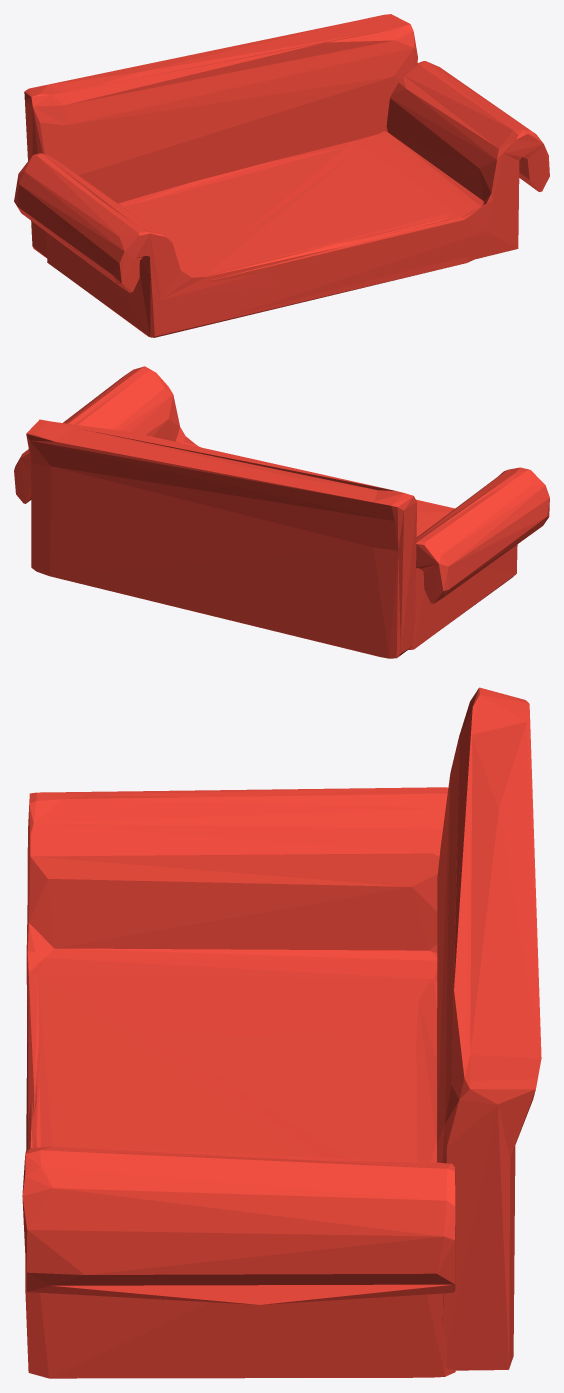
Rendered from simplecouch.fbx.
3 views of the same model, one above another, from view 1: azimuth 30°, elevation 25°; view 2: azimuth 150°, elevation 25°; view 3: azimuth 270°, elevation 25° (orthographic). The views are drawn at different scales.
Parts seen in each view (by area): view 1: Cube; view 2: Cube; view 3: Cube.
Boxes of the visible parts, <box> form: Cube: <box>14,14,549,337</box>; Cube: <box>14,366,549,658</box>; Cube: <box>22,687,541,1378</box>.
Size of the model in its own units: 334 by 122 by 173.
